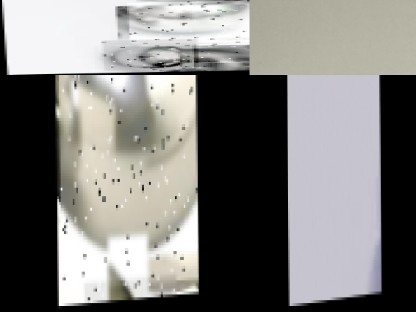ironball: (57, 74, 198, 293), (124, 1, 249, 44), (99, 39, 195, 71), (189, 44, 249, 67), (149, 62, 210, 72)
